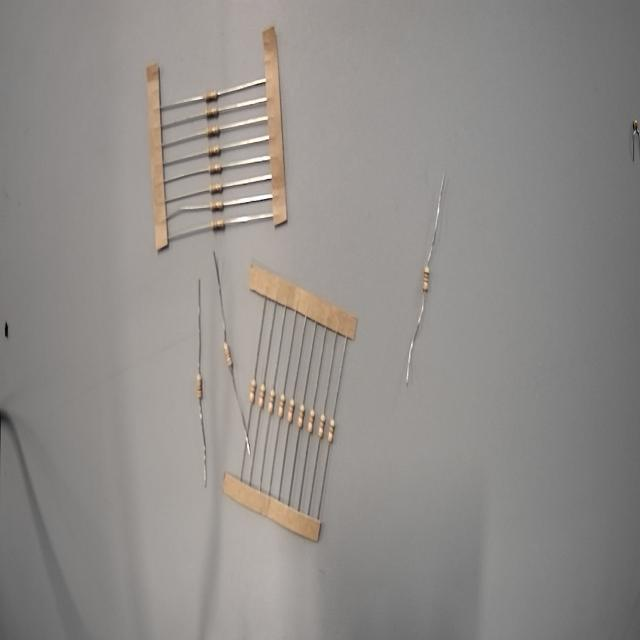resistor: (213, 328, 242, 376), (189, 366, 211, 410), (416, 260, 437, 297), (264, 381, 281, 423), (200, 100, 225, 127), (199, 82, 223, 109), (256, 370, 269, 418), (274, 388, 288, 428), (325, 414, 341, 449), (201, 122, 225, 145), (245, 368, 257, 414), (293, 400, 309, 434), (315, 410, 331, 442), (284, 395, 298, 431), (208, 214, 230, 236), (202, 141, 224, 162), (206, 156, 227, 178), (206, 178, 227, 200), (305, 405, 319, 436), (208, 196, 228, 215)
